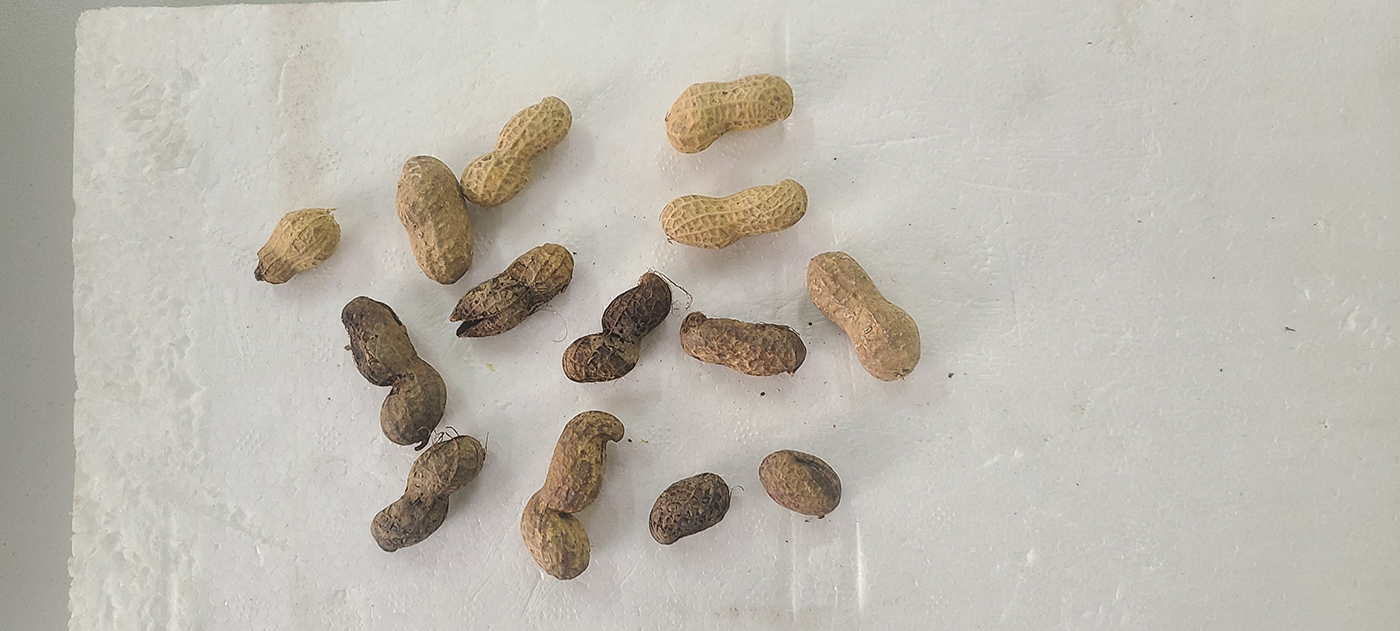h: (806, 250, 922, 382), (459, 96, 573, 207), (660, 177, 808, 251), (665, 73, 793, 154), (396, 154, 473, 285), (255, 207, 341, 286)
l: (520, 410, 625, 580), (341, 295, 449, 445), (370, 436, 484, 552), (446, 242, 573, 339), (562, 272, 671, 384), (680, 311, 805, 376), (648, 474, 730, 545), (758, 448, 843, 516)
